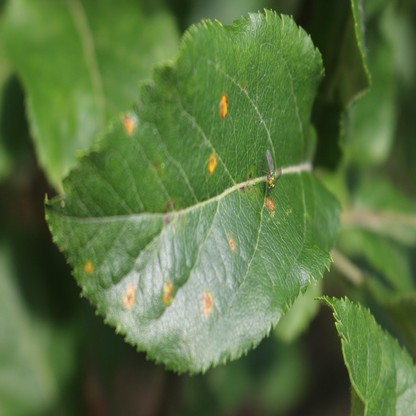rust: (123, 283, 136, 309), (200, 290, 213, 314), (163, 278, 173, 305), (124, 115, 135, 134), (219, 95, 228, 117), (208, 155, 216, 172), (85, 260, 93, 275), (266, 198, 274, 212), (229, 235, 236, 250)
scab: (163, 200, 186, 227), (240, 170, 256, 195), (151, 157, 164, 180)
